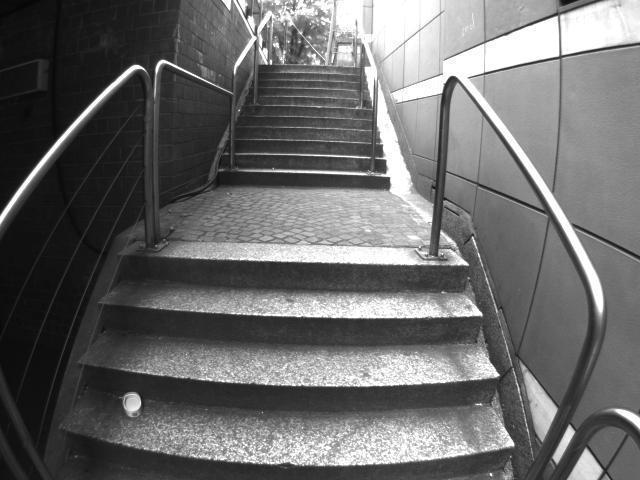Escaleras: (85, 249, 547, 479), (204, 67, 399, 207)
